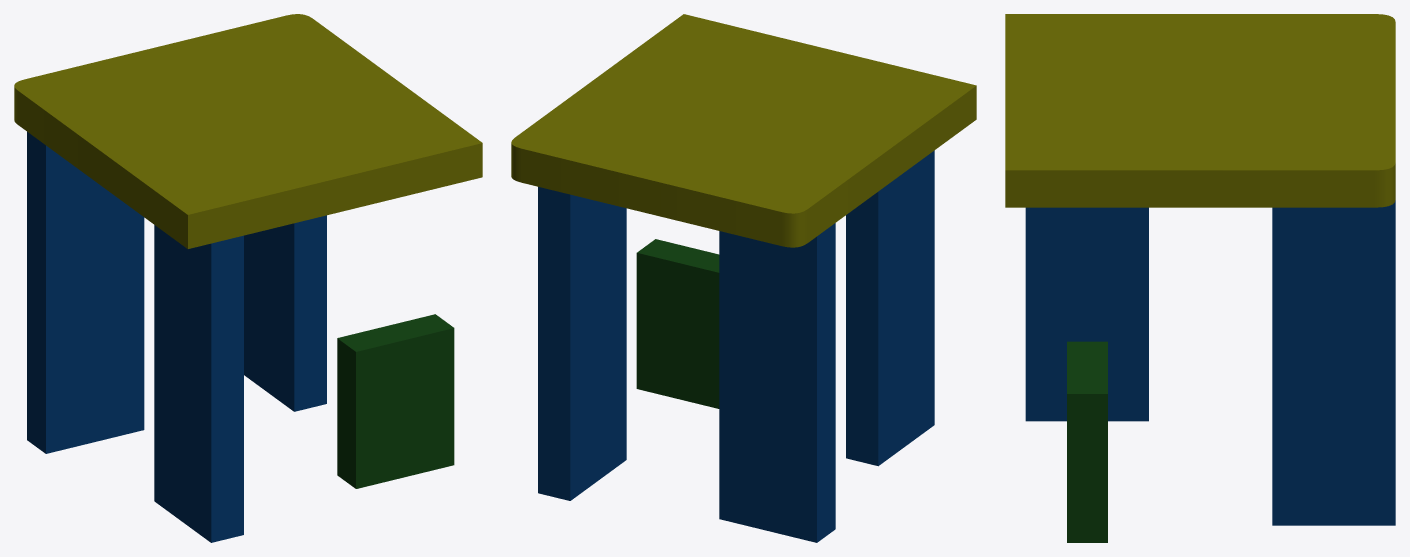
File: T0DirF.fbx
3 renders of one model, left to right at view 1: azimuth 30°, elevation 25°; view 2: azimuth 150°, elevation 25°; view 3: azimuth 270°, elevation 25°, orthographic. The views are drawn at different scales.
Visible parts, largest first — view 1: 4, 3, 1, 2; view 2: 4, 2, 3, 1; view 3: 2, 3, 1, 4.
Part boxes in pixels (x1=…): 4: x1=14, y1=47, x2=244, y2=453; 3: x1=98, y1=113, x2=335, y2=542; 1: x1=246, y1=77, x2=482, y2=488; 2: x1=156, y1=14, x2=392, y2=411; 4: x1=651, y1=115, x2=887, y2=542; 2: x1=511, y1=79, x2=740, y2=500; 3: x1=741, y1=49, x2=976, y2=466; 1: x1=595, y1=14, x2=829, y2=408; 2: x1=1200, y1=92, x2=1395, y2=525; 3: x1=1005, y1=14, x2=1200, y2=421; 1: x1=1005, y1=92, x2=1200, y2=542; 4: x1=1200, y1=14, x2=1395, y2=92.
Size of the model in its own units: 180 by 200 by 190.
